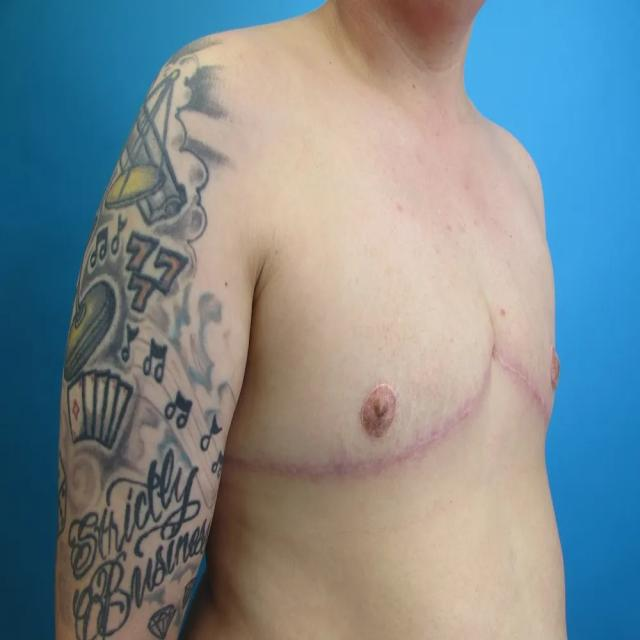Seno herido: (218, 218, 492, 505), (496, 220, 570, 448)
